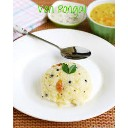venpongal: (44, 63, 94, 106)
